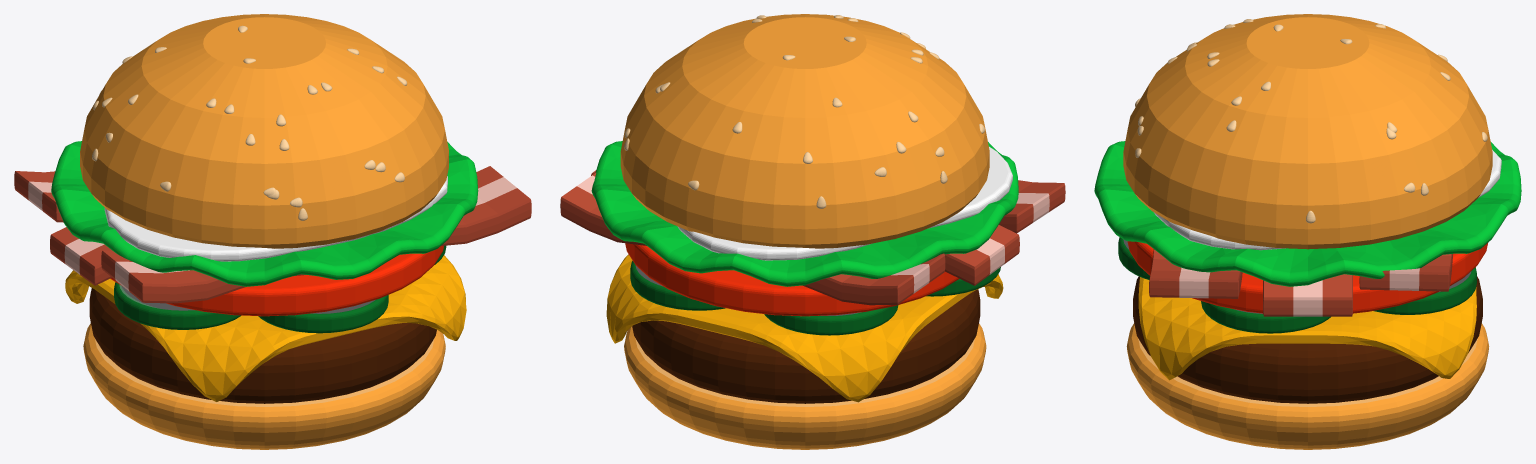
File: CheeseBurger.fbx
3 renders of one model, left to right at view 1: azimuth 30°, elevation 25°; view 2: azimuth 150°, elevation 25°; view 3: azimuth 270°, elevation 25°, orthographic.
Parts seen in each view (by area): view 1: top_bun_1, Bottom_bun, beef, Lettuce, Cheese, Bacon, tomato, cucumber, Egg; view 2: top_bun_1, Bottom_bun, beef, Lettuce, Cheese, Bacon, tomato, cucumber, Egg; view 3: top_bun_1, Lettuce, Bottom_bun, Cheese, beef, Bacon, cucumber, tomato, Egg.
Part boxes in pixels (x1,y1,x2,y2): top_bun_1: (80,14,448,248); Bottom_bun: (83,323,445,449); beef: (89,288,436,403); Lettuce: (51,141,478,286); Cheese: (65,255,466,401); Bacon: (14,166,531,303); tomato: (110,246,443,316); cucumber: (114,245,446,333); Egg: (104,176,447,261); top_bun_1: (620,14,989,248); Bottom_bun: (624,323,986,449); beef: (632,289,980,403); Lettuce: (591,141,1018,286); Cheese: (606,254,1003,402); Bacon: (560,170,1065,305); tomato: (625,243,959,316); cucumber: (630,261,1000,335); Egg: (677,146,1012,260); top_bun_1: (1123,14,1492,249); Lettuce: (1094,141,1521,286); Bottom_bun: (1126,323,1489,449); Cheese: (1138,267,1476,380); beef: (1133,276,1482,403); Bacon: (1149,249,1452,316); cucumber: (1118,237,1476,333); tomato: (1127,241,1487,313); Egg: (1154,149,1501,250).
Bounding box in the file's own units: 143 × 123 × 138.
